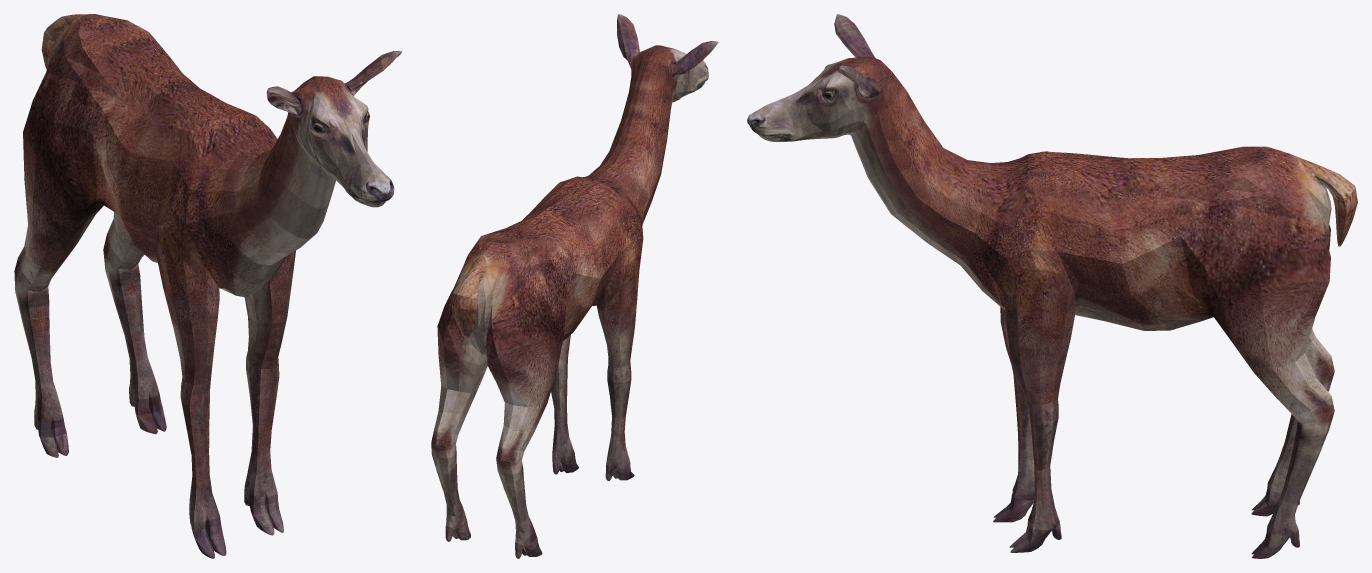
Rendered from U2CMIVTVJQ8SSP0UEG19J0PUF.gltf.
3 renders of one model, left to right at view 1: azimuth 30°, elevation 25°; view 2: azimuth 150°, elevation 25°; view 3: azimuth 270°, elevation 25°, orthographic. The views are drawn at different scales.
Size of the model in its own units: 0.6096 by 2.24 by 2.5.
3 materials, 3 textured.
